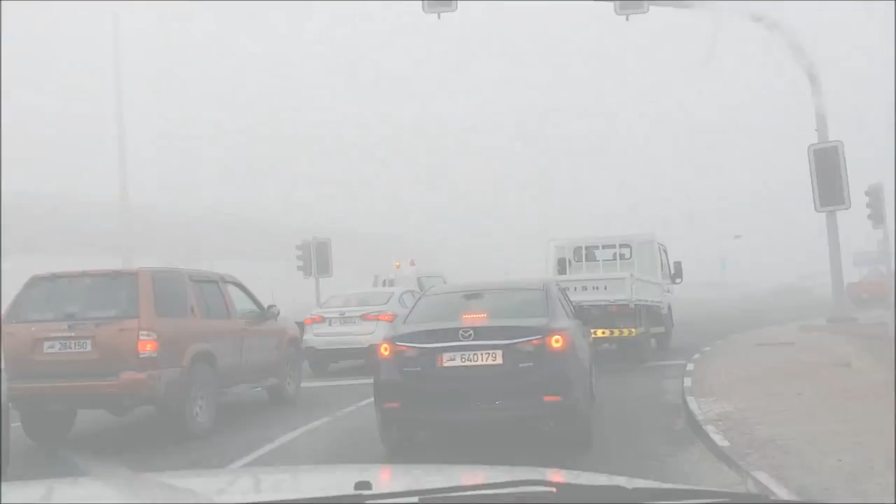bus: (543, 229, 684, 362)
car: (1, 263, 305, 442), (369, 277, 603, 463), (301, 284, 446, 378)
